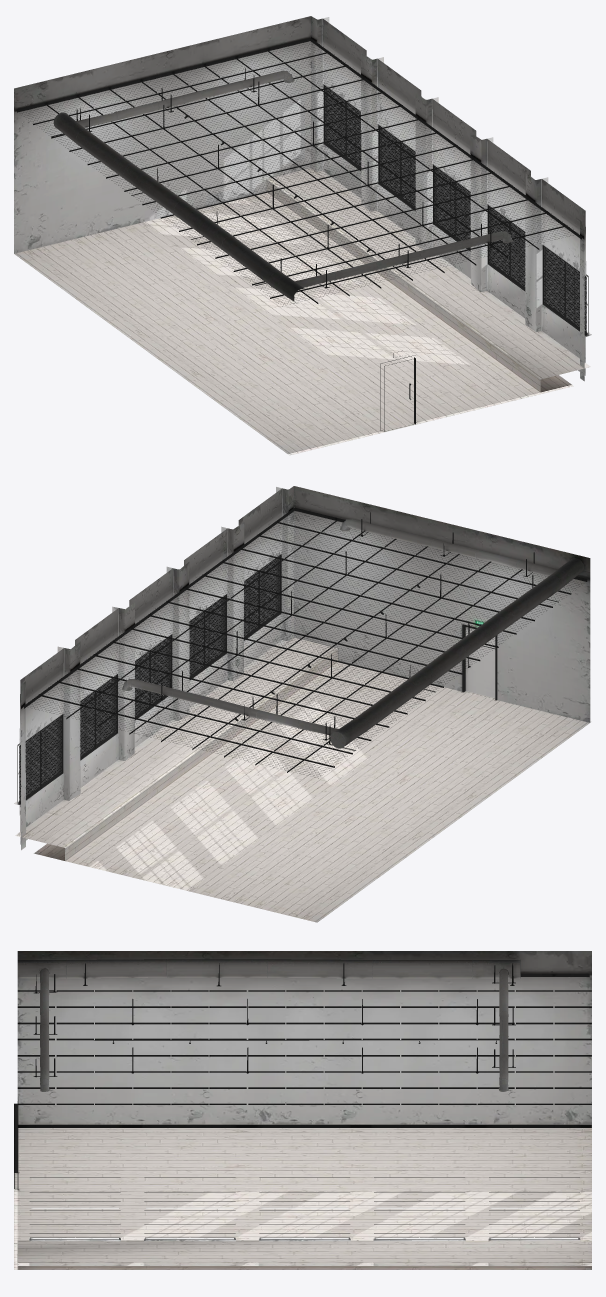
File: vr_stage01.glb
The picture shows the model from 3 angles, top to bottom: view 1: azimuth 30°, elevation 25°; view 2: azimuth 150°, elevation 25°; view 3: azimuth 270°, elevation 25°; orthographic projection. The views are drawn at different scales.
Visible parts, largest first — view 1: RoomBaked_RoomBaked_0, PropsBaked_PropsBaked_0; view 2: RoomBaked_RoomBaked_0, PropsBaked_PropsBaked_0; view 3: RoomBaked_RoomBaked_0, PropsBaked_PropsBaked_0.
Part boxes in pixels (box(x1,y1,x2,y2)): RoomBaked_RoomBaked_0: box(14, 16, 591, 455); PropsBaked_PropsBaked_0: box(17, 38, 589, 431); RoomBaked_RoomBaked_0: box(14, 486, 591, 922); PropsBaked_PropsBaked_0: box(15, 507, 587, 804); RoomBaked_RoomBaked_0: box(14, 951, 591, 1269); PropsBaked_PropsBaked_0: box(14, 959, 591, 1239).
Bounding box in the file's own units: 9.86 × 5.02 × 15.1.
Materials: 2 (2 with a texture image).
